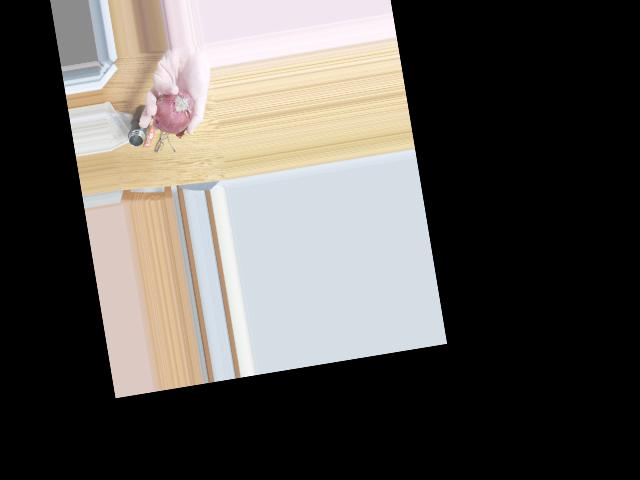onion: (153, 87, 196, 135)
